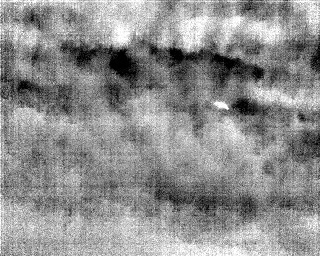BIRD: (232, 13, 244, 26)
